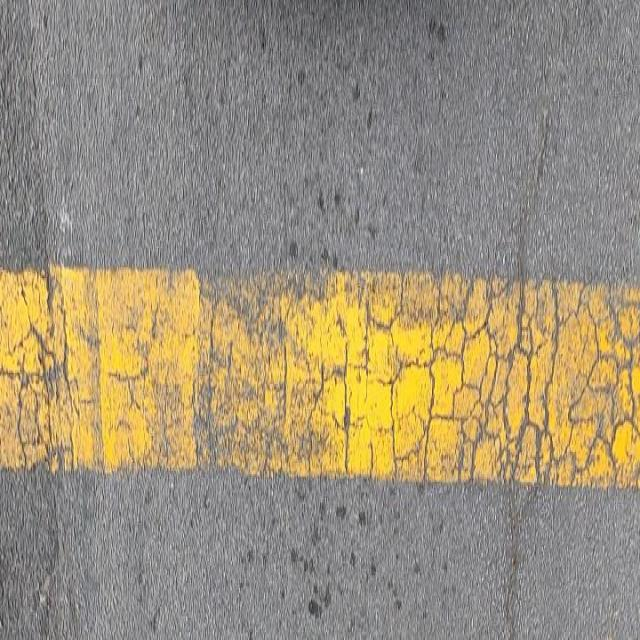cracks: (0, 143, 640, 514)
